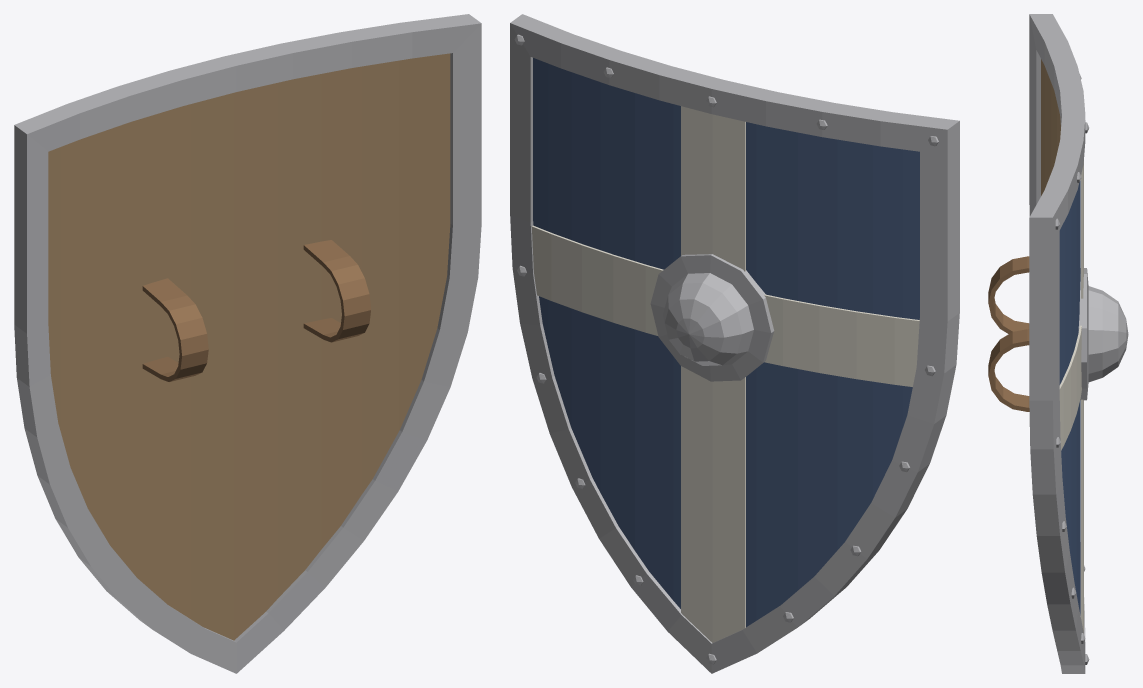
The model's file is held-shield.glb.
3 renders of one model, left to right at view 1: azimuth 30°, elevation 25°; view 2: azimuth 150°, elevation 25°; view 3: azimuth 270°, elevation 25°, orthographic. The views are drawn at different scales.
Parts seen in each view (by area): view 1: body, rim, strap_elbow, strap_hand; view 2: body, rim, cross, boss, rivets; view 3: rim, body, boss, cross, strap_elbow, strap_hand, rivets.
Part boxes in pixels (bbox=[...]): body: bbox=[48, 53, 450, 640]; rim: bbox=[14, 14, 481, 673]; strap_elbow: bbox=[303, 240, 370, 342]; strap_hand: bbox=[142, 278, 208, 381]; body: bbox=[533, 58, 919, 627]; rim: bbox=[510, 14, 959, 673]; cross: bbox=[531, 106, 919, 642]; boss: bbox=[650, 254, 774, 381]; rivets: bbox=[514, 34, 938, 664]; rim: bbox=[1029, 14, 1085, 673]; body: bbox=[1041, 59, 1080, 615]; boss: bbox=[1078, 268, 1128, 400]; cross: bbox=[1059, 161, 1083, 633]; strap_elbow: bbox=[988, 329, 1029, 411]; strap_hand: bbox=[988, 256, 1029, 333]; rivets: bbox=[1055, 74, 1089, 664].
Size of what is drawn, in the model's own units: 0.616 by 0.7872 by 0.179.
